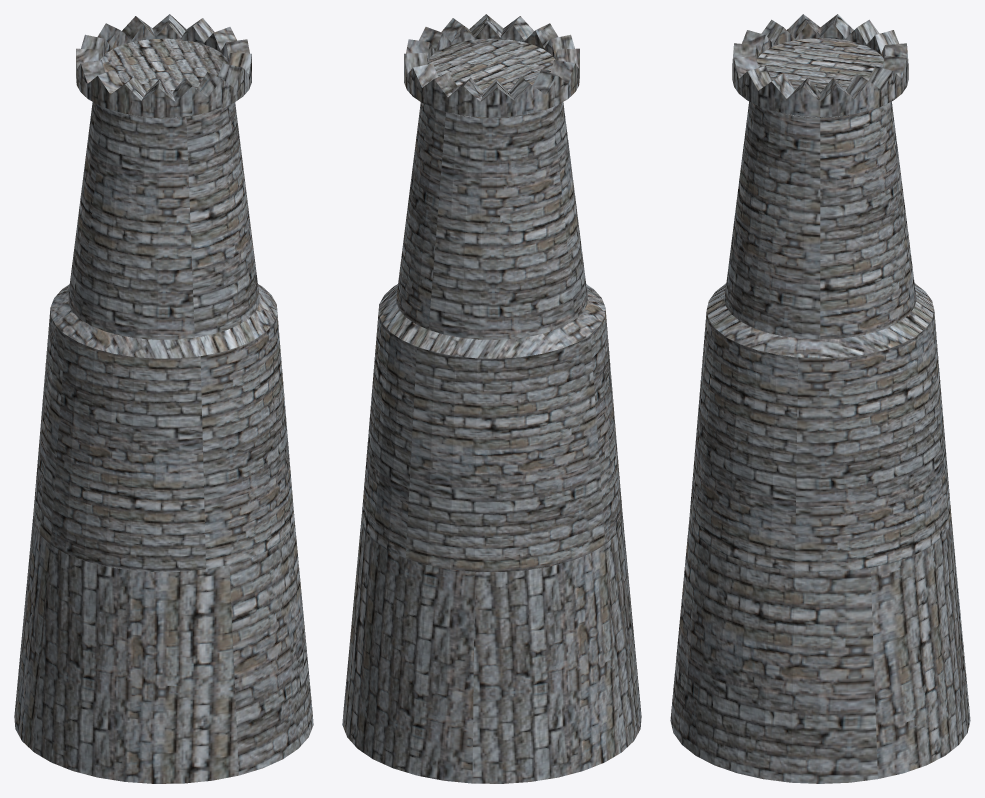
The model's file is turret.obj.
The picture shows the model from 3 angles, left to right: view 1: azimuth 30°, elevation 25°; view 2: azimuth 150°, elevation 25°; view 3: azimuth 270°, elevation 25°; orthographic projection.
Parts seen in each view (by area): view 1: Plane; view 2: Plane; view 3: Plane.
Part boxes in pixels (<box>): Plane: <box>14,14,313,783</box>; Plane: <box>342,14,641,783</box>; Plane: <box>670,14,970,783</box>.
Size of the model in its own units: 0.5676 by 1.4 by 0.5676.
Materials: 1 (1 with a texture image).
